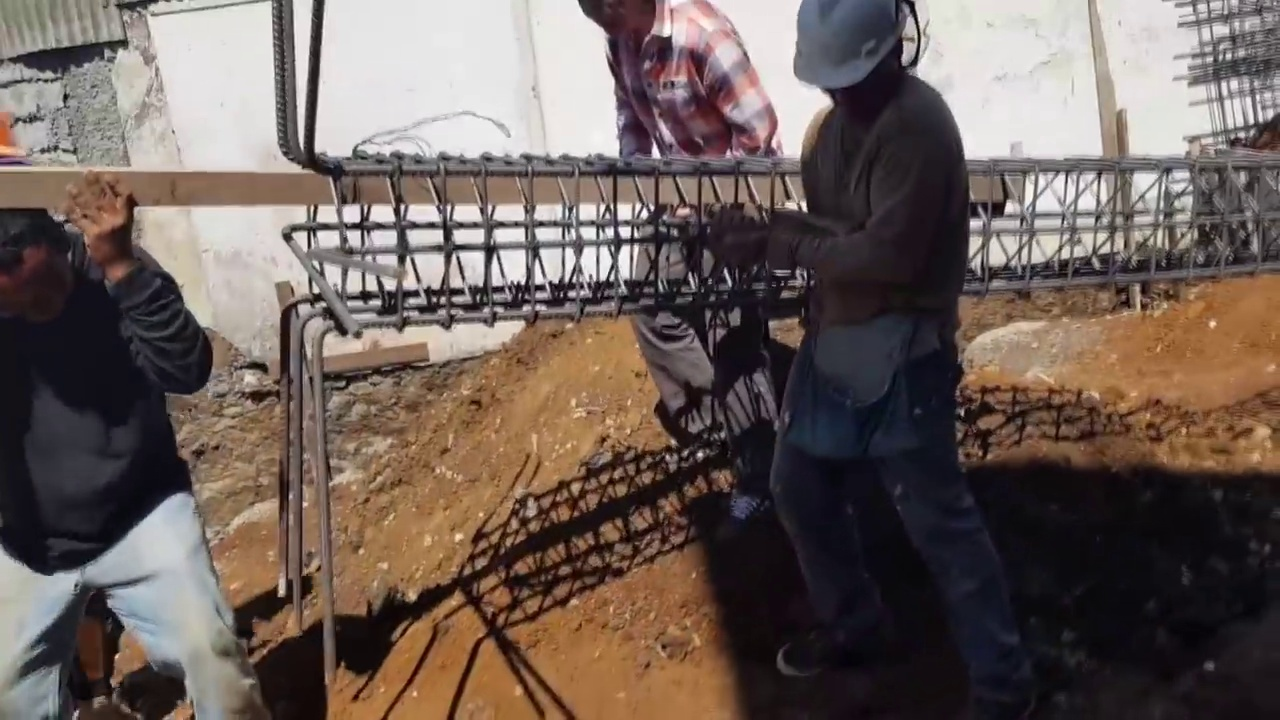helmet: (783, 3, 913, 95)
helmet-off: (0, 210, 91, 313), (583, 0, 674, 58)
helmet-on: (789, 0, 913, 130)
person: (776, 0, 1034, 720), (0, 191, 265, 719), (579, 0, 795, 545)
